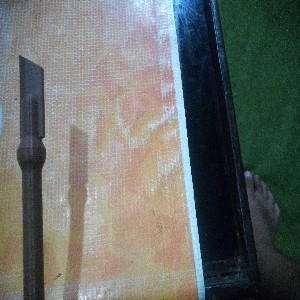cutter: (15, 53, 48, 300)
